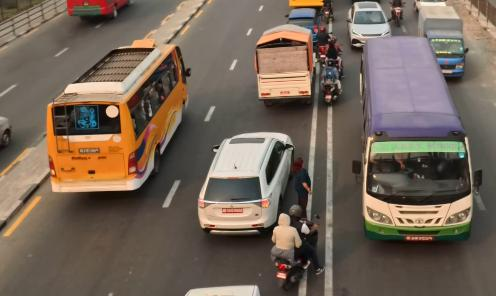bus: (357, 33, 484, 248), (41, 37, 195, 199)
